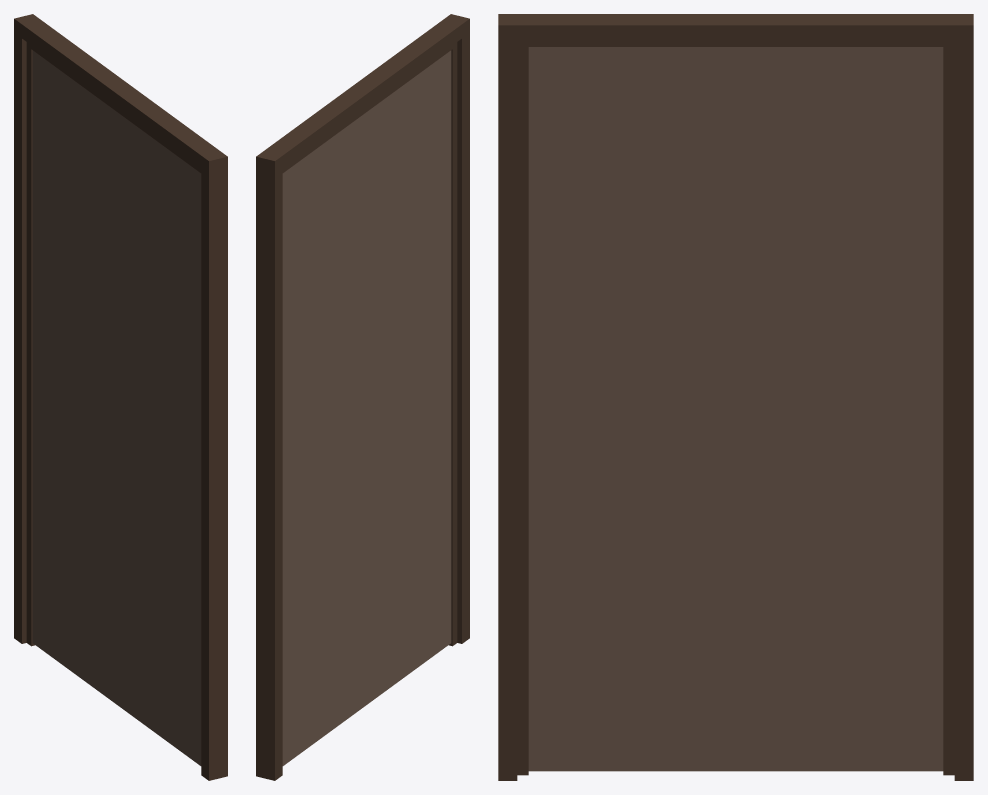
Rendered from PUERTA_TRASPLANTE.fbx.
3 views of the same model, side by side, from view 1: azimuth 30°, elevation 25°; view 2: azimuth 150°, elevation 25°; view 3: azimuth 270°, elevation 25° (orthographic). The views are drawn at different scales.
Visible parts, largest first — view 1: polySurface1; view 2: polySurface1; view 3: polySurface1.
Boxes of the visible parts, x1=… form: polySurface1: x1=14, y1=14, x2=227, y2=780; polySurface1: x1=256, y1=14, x2=469, y2=780; polySurface1: x1=498, y1=14, x2=973, y2=780.
Size of the model in its own units: 7 by 220 by 125.
